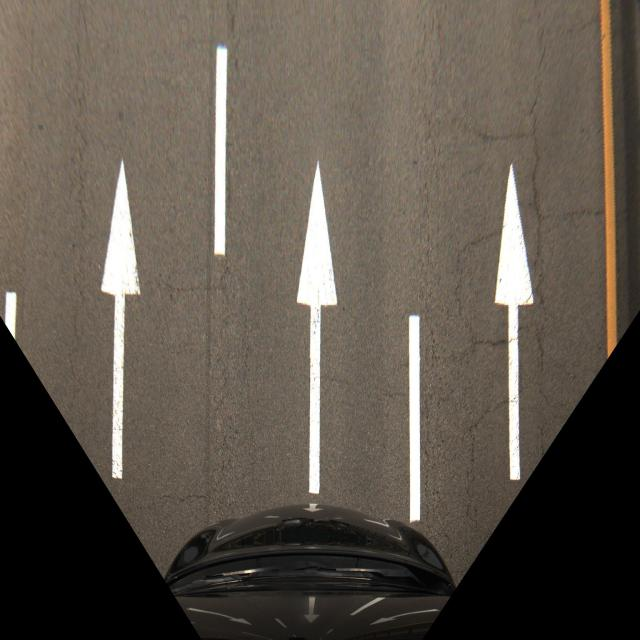forward: (0, 125, 232, 506), (418, 146, 620, 522), (219, 160, 420, 502)
